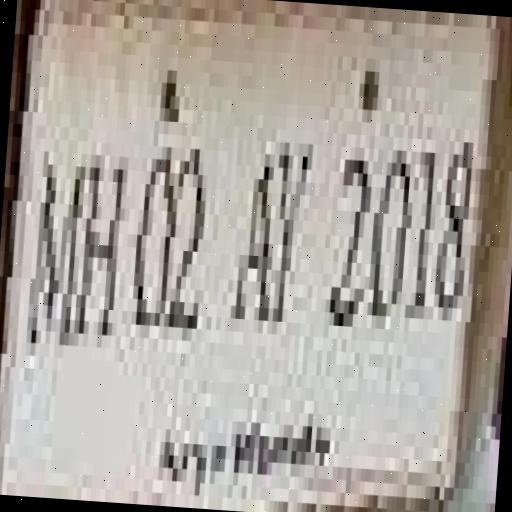number plate: (0, 0, 510, 451)
